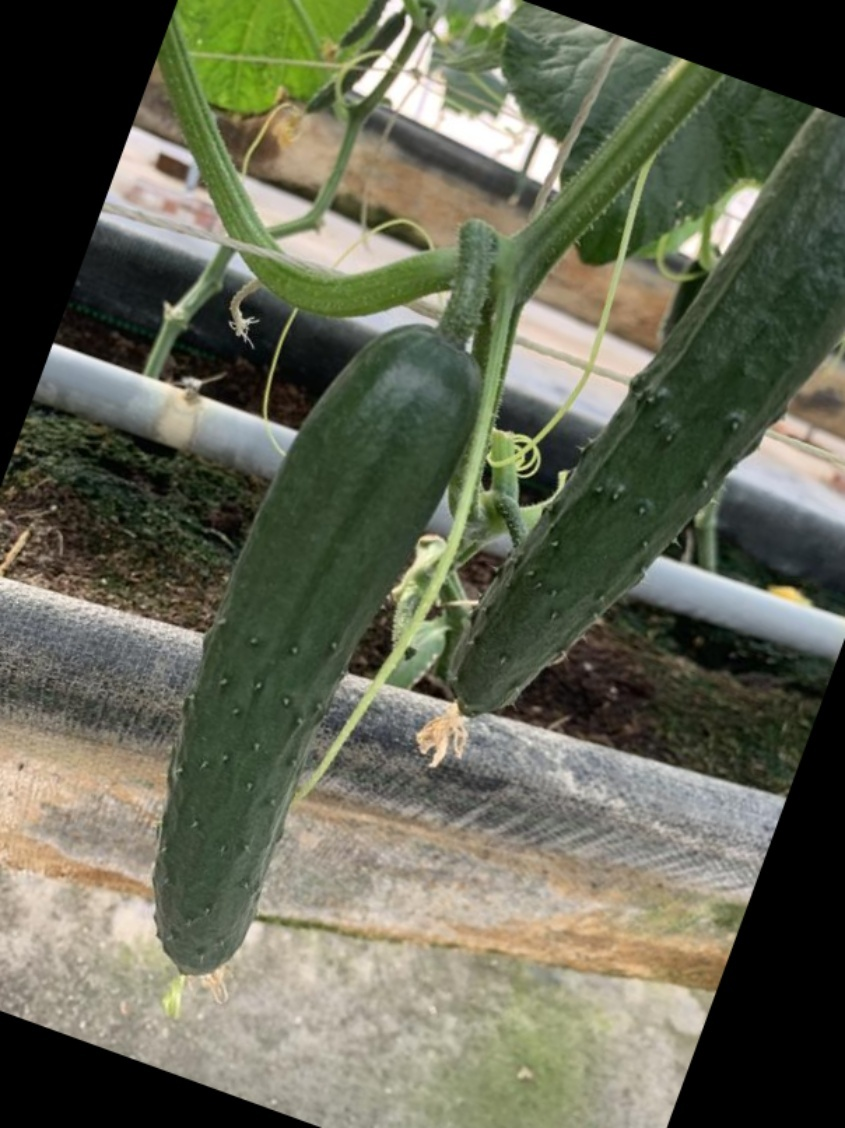mature: (443, 103, 843, 722)
